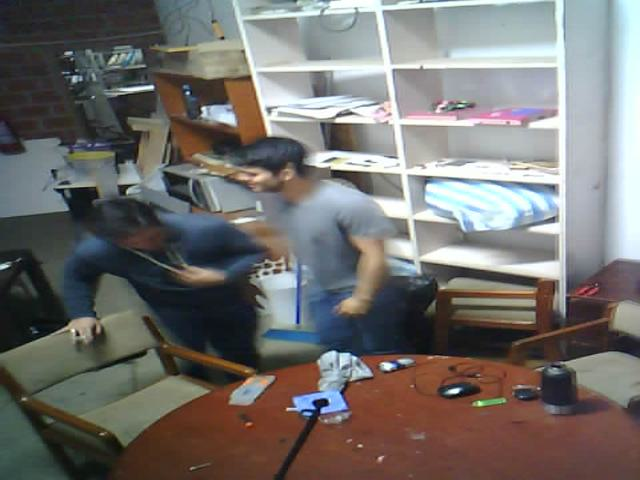person: (220, 84, 431, 364), (28, 189, 286, 399)
